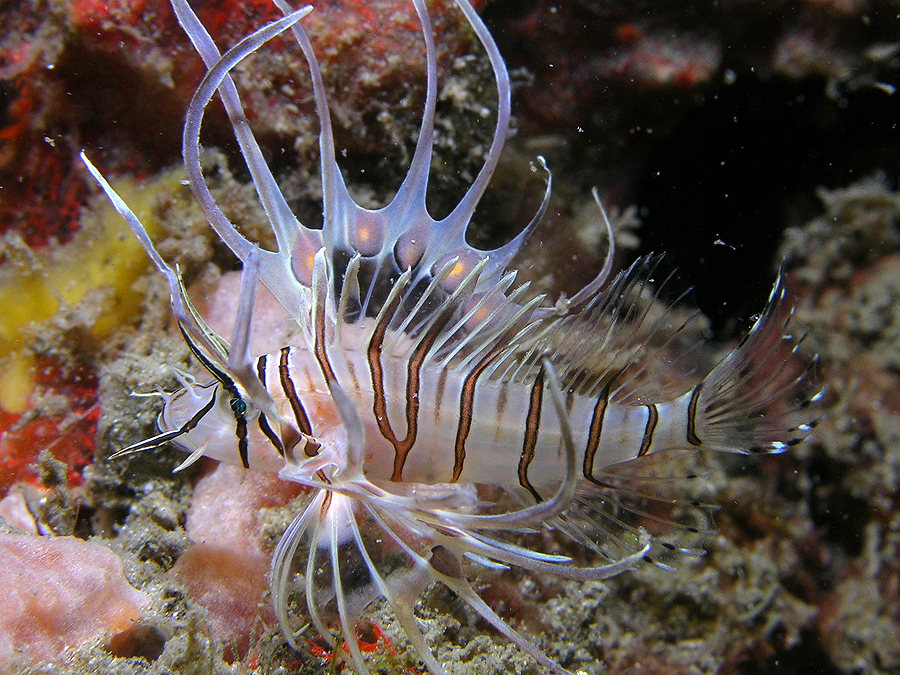Pterois_volitans: (24, 2, 809, 635)
